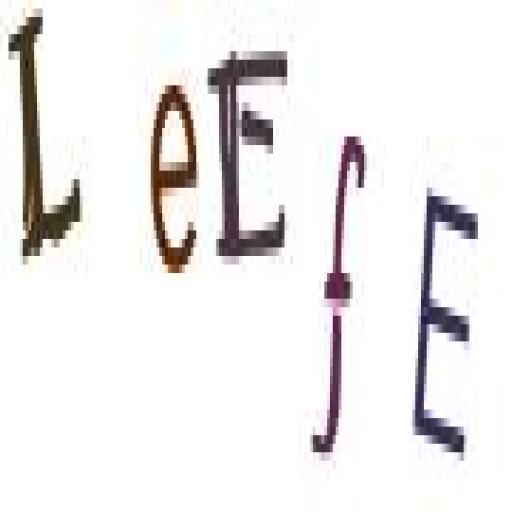E: (410, 170, 483, 475), (207, 32, 297, 274)
L: (7, 0, 87, 280)
e: (144, 63, 204, 287)
f: (310, 116, 372, 488)
